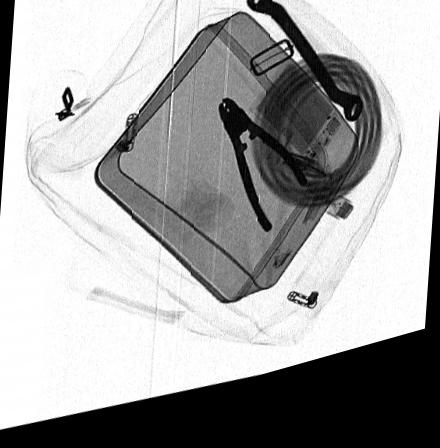Pliers: (215, 110, 308, 248)
Powerbank: (246, 71, 346, 183)
Wrench: (245, 0, 363, 141)
